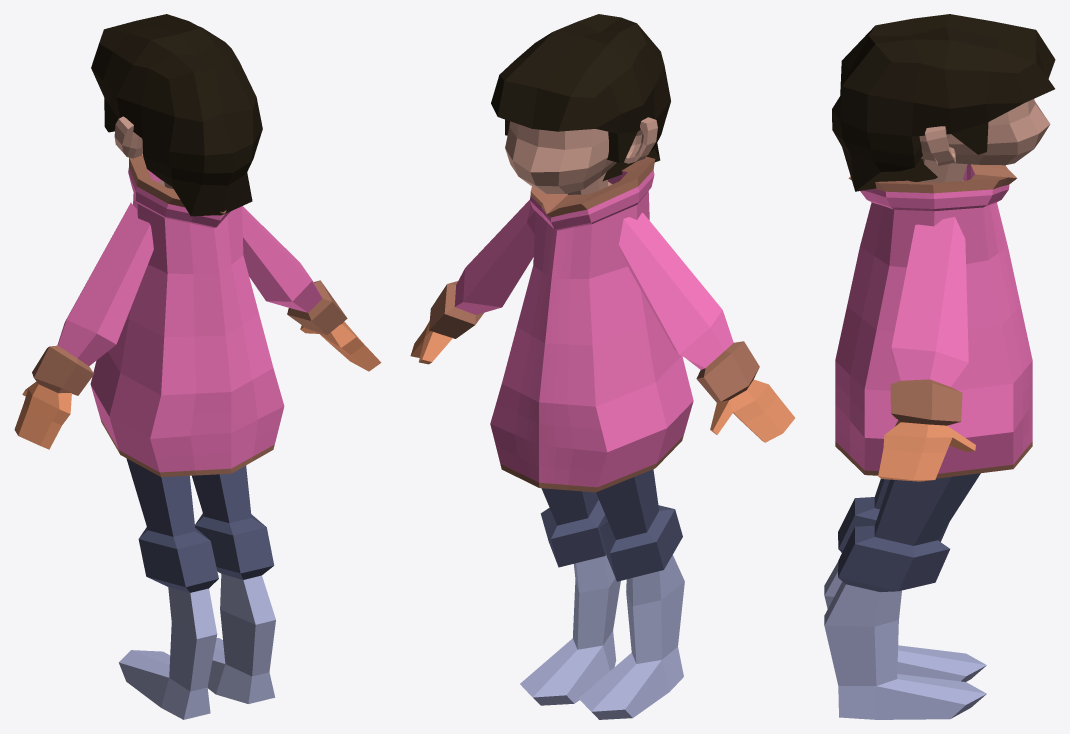
File: npc_girl.glb
The picture shows the model from 3 angles, left to right: view 1: azimuth 30°, elevation 25°; view 2: azimuth 150°, elevation 25°; view 3: azimuth 270°, elevation 25°; orthographic projection. The views are drawn at different scales.
Parts seen in each view (by area): view 1: Cube, Cylindre, Cube.004, Cylindre.001, Cube.002; view 2: Cube, Cylindre, Cylindre.001, Cube.004, Cube.001, Cube.002; view 3: Cube, Cylindre, Cube.004, Cylindre.001, Cube.001, Cube.002, Cylindre.002.
Boxes of the visible parts, box(x1,y1,x2,y2) form: Cube: box(90, 154, 284, 477); Cylindre: box(118, 458, 275, 719); Cube.004: box(91, 14, 262, 216); Cylindre.001: box(14, 202, 381, 449); Cube.002: box(114, 116, 142, 158); Cube: box(490, 156, 693, 492); Cylindre: box(520, 469, 684, 719); Cylindre.001: box(410, 200, 794, 442); Cube.004: box(491, 14, 670, 181); Cube.001: box(505, 121, 616, 193); Cube.002: box(624, 117, 657, 163); Cube: box(835, 164, 1032, 478); Cylindre: box(824, 473, 986, 719); Cube.004: box(832, 14, 1055, 191); Cylindre.001: box(878, 217, 975, 481); Cube.001: box(919, 99, 1050, 165); Cube.002: box(925, 126, 955, 166); Cylindre.002: box(918, 159, 967, 182).
Size of the model in its own units: 1.62 by 2.81 by 0.881.
